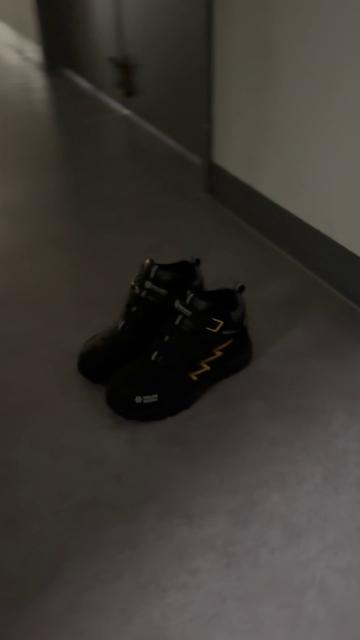shoe_worn: (100, 282, 251, 426), (76, 256, 207, 389)
